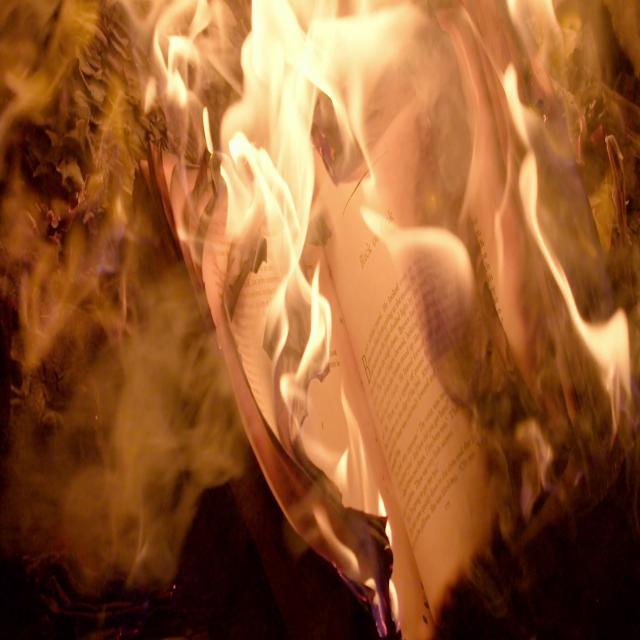Fire: (297, 0, 640, 543), (148, 0, 394, 521)
Smoke: (0, 0, 260, 604)
